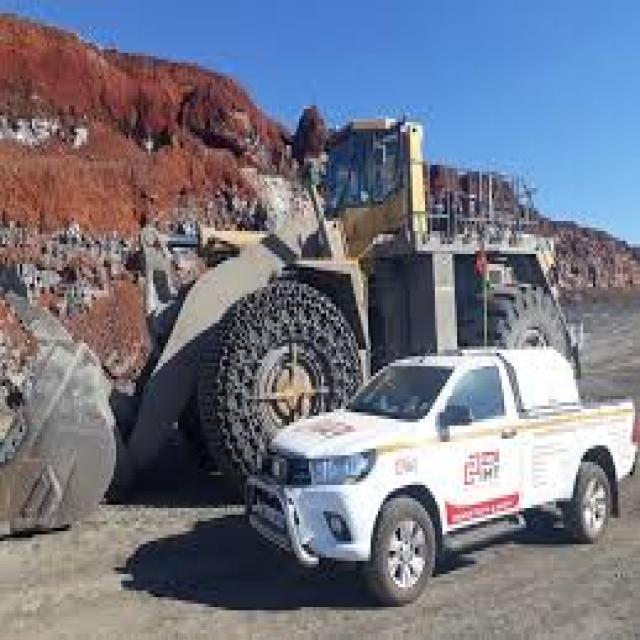light_vehicle: (237, 334, 638, 600)
